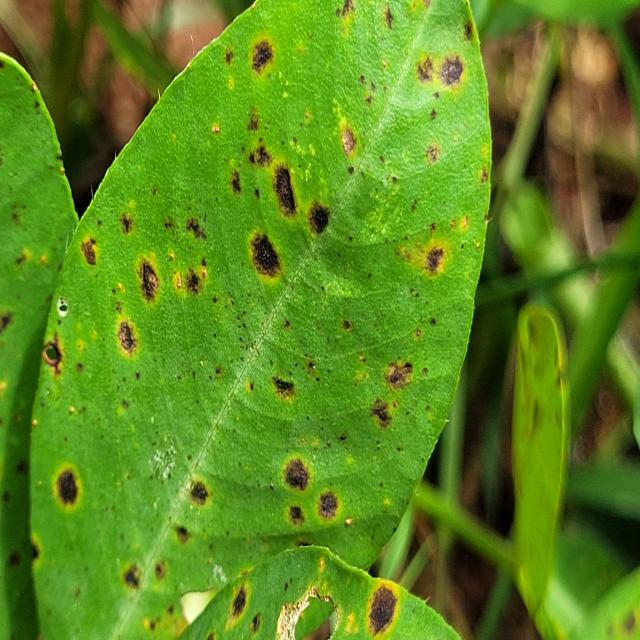Ground nut_tikka leaf spot: (26, 0, 494, 640)
